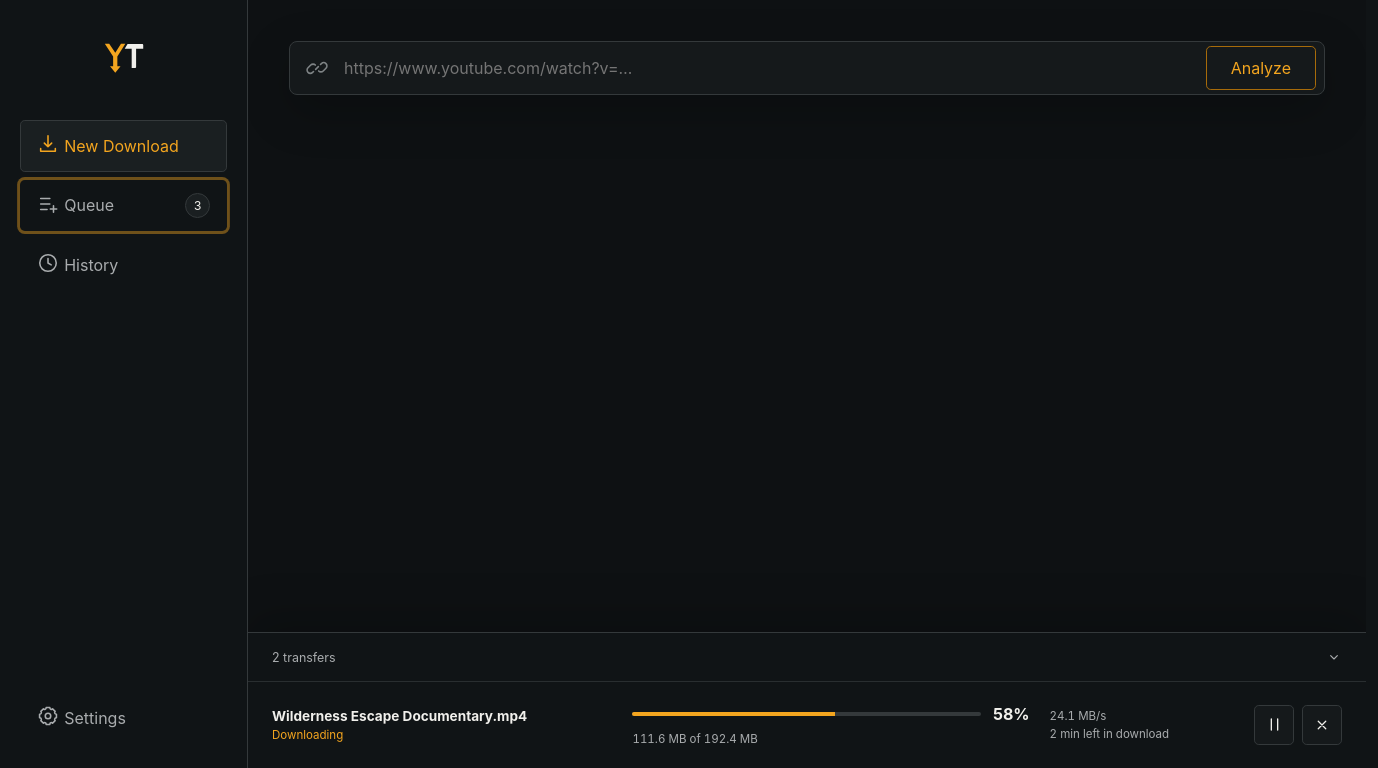
it: desktop workspace › uses keyboard tabs and restores focus when navigation changes content
Press Enter
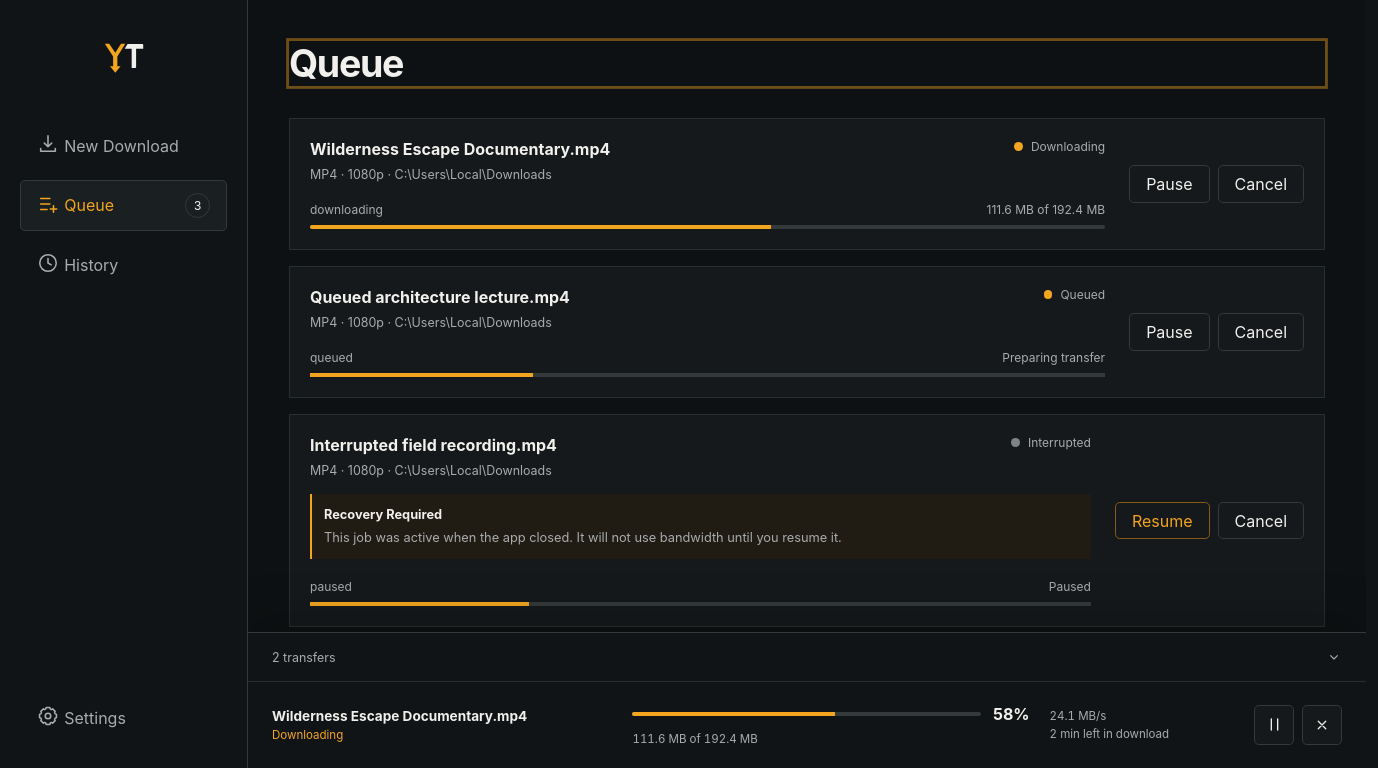
Expected: the text "Recovery required" is shown, [324,507,442,522]
Click the button "History": (124, 265) [20,239,227,291]
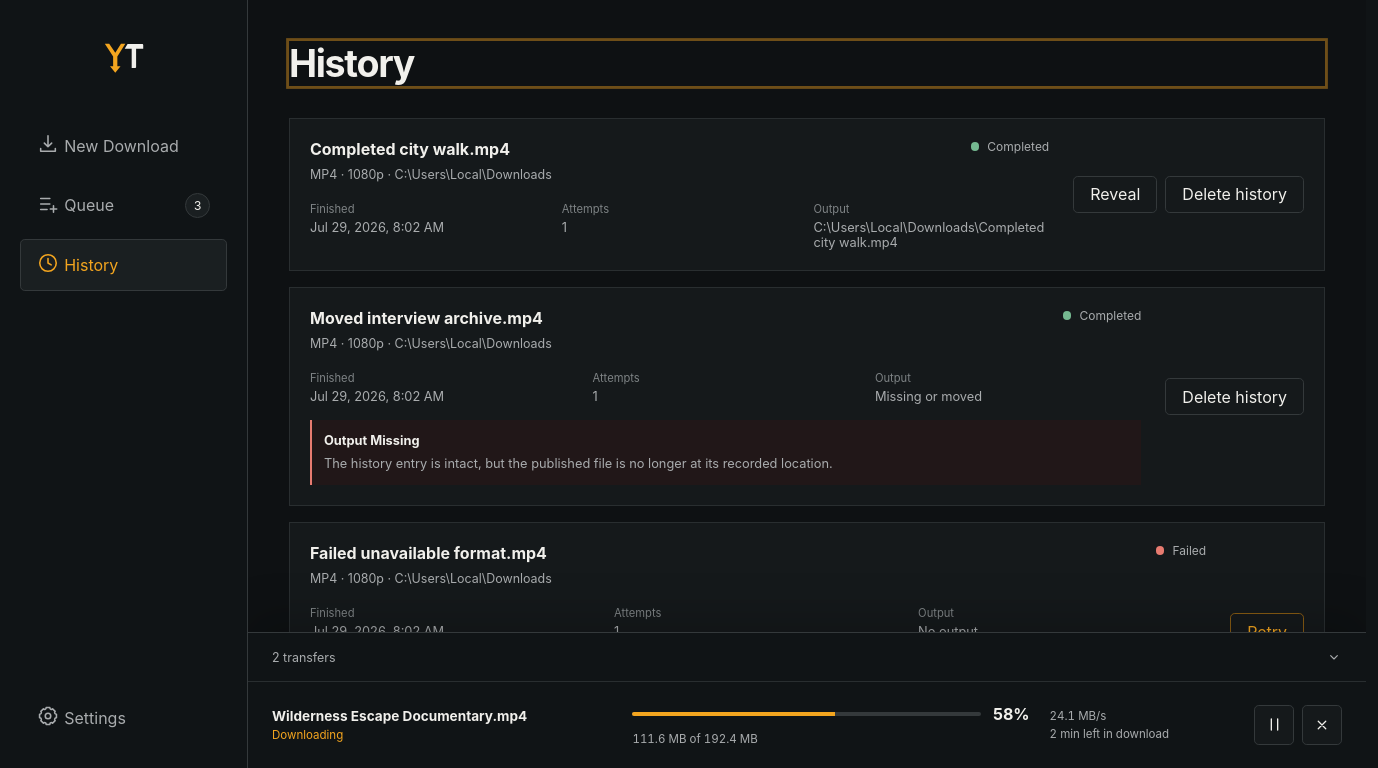
Expected: the text "Output missing" is shown, [324,433,420,448]
Click the button "Settings": (124, 718) [20,692,227,744]
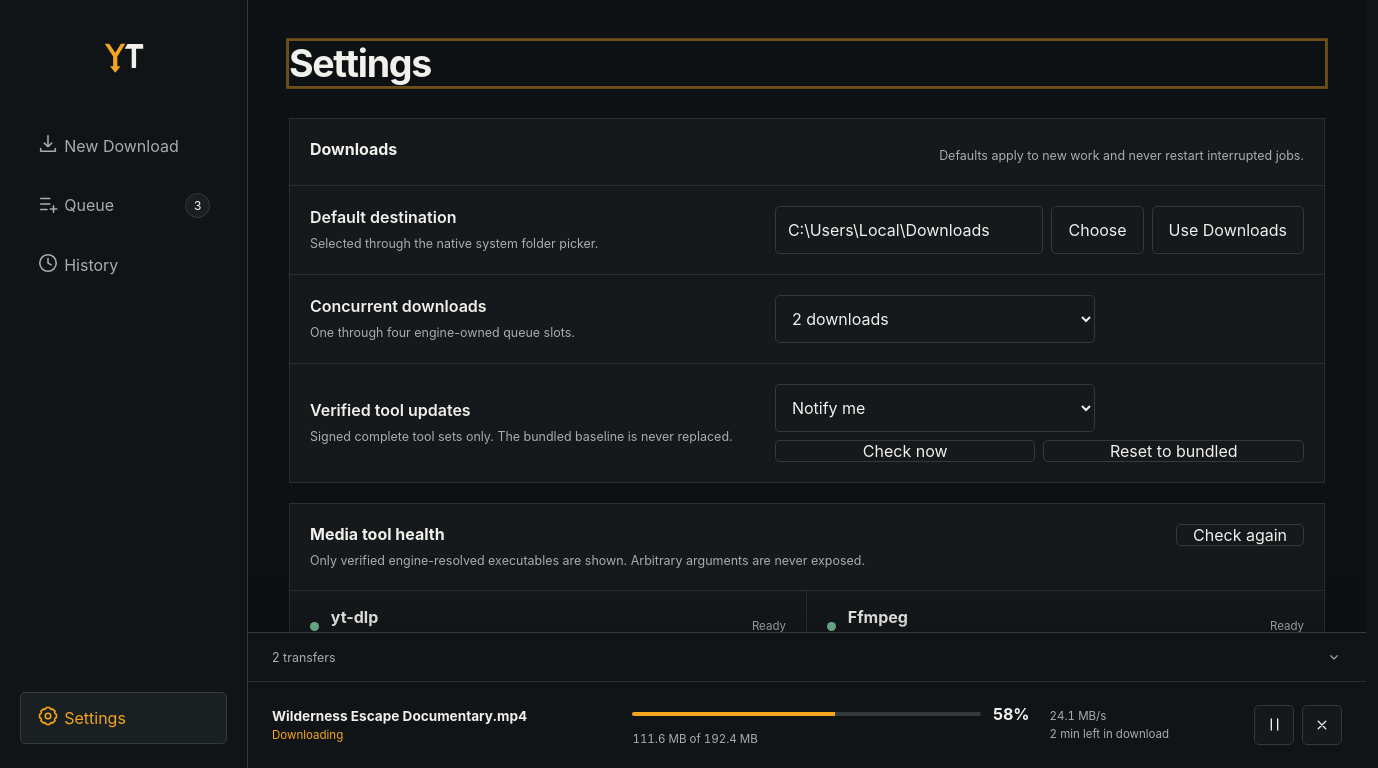
Expected: the dropdown labelled "Concurrent downloads" shows "2 downloads", [775,295,1095,343]
